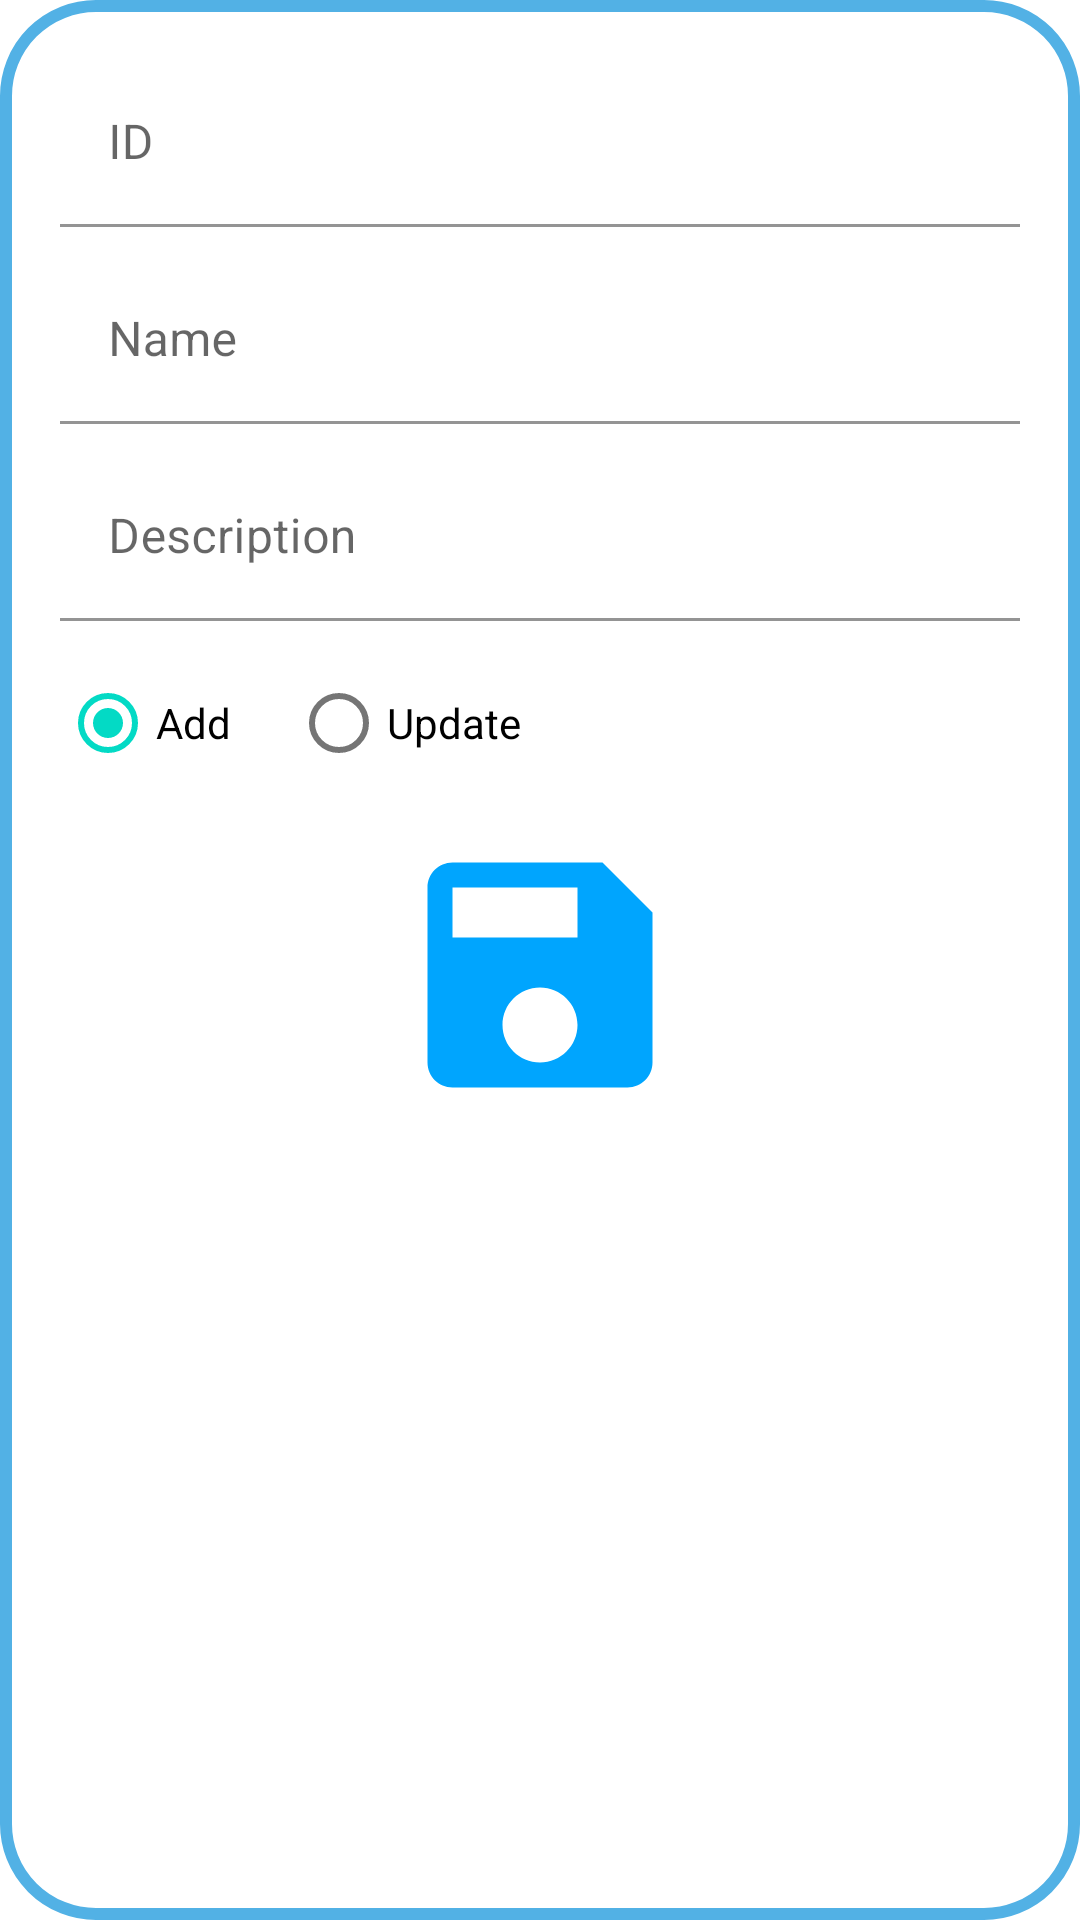

Named icons in this screenshot (1080 x 1920) and their bounding boxes, (x1, y1, x2, y2):
save: (427, 862, 653, 1088)
